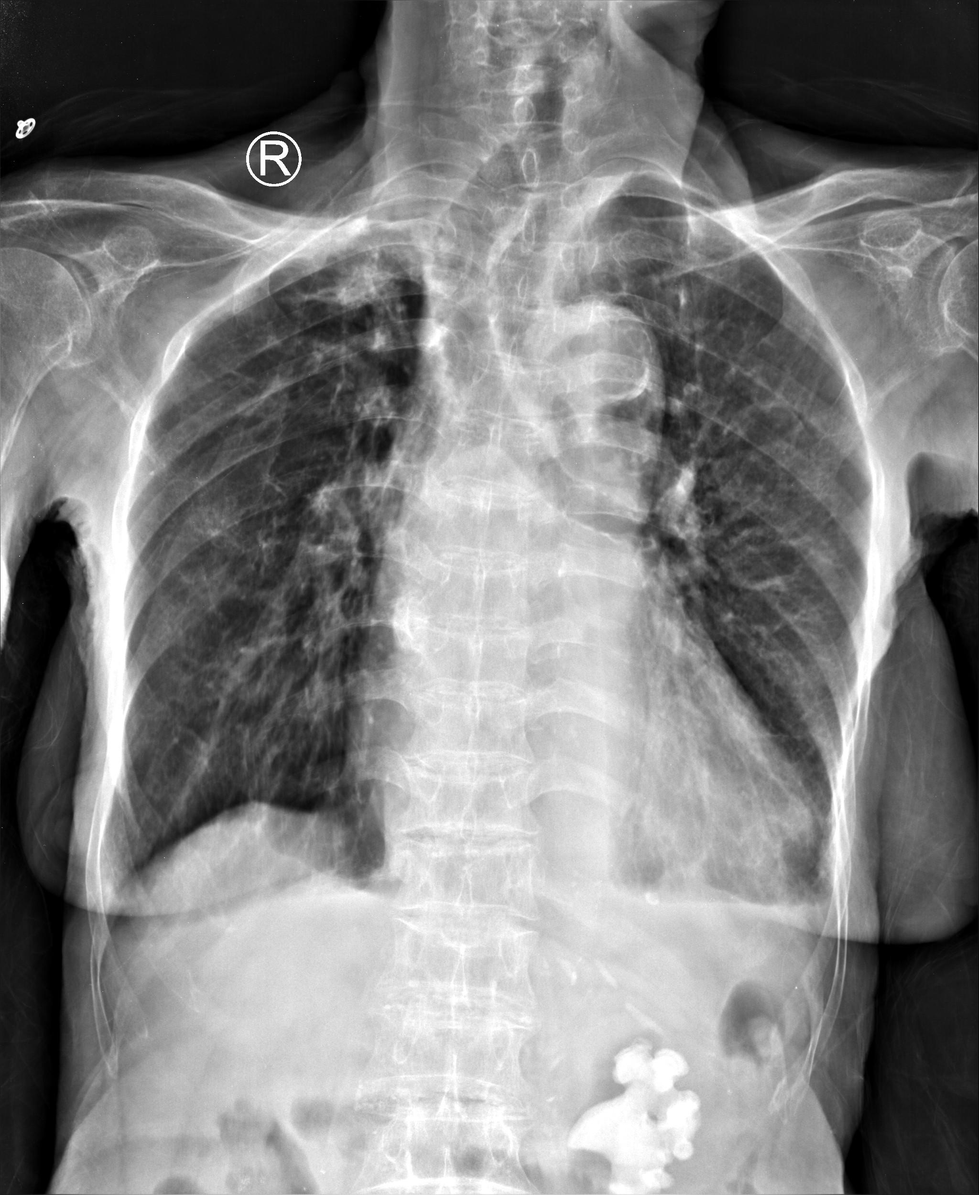Aortic enlargement: (513, 301, 660, 477)
Pleural thickening: (76, 833, 162, 939), (250, 206, 368, 274), (552, 160, 625, 242)
Pulmonary fibrosis: (267, 227, 417, 429), (672, 194, 704, 319)
